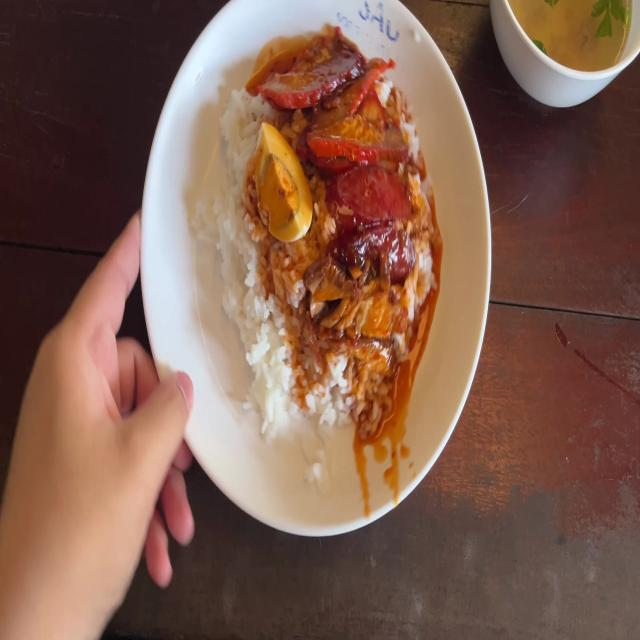01boiled_egg: (258, 127, 306, 234)
01chainese_sausage: (333, 175, 418, 272)
01crispy_pork: (311, 270, 408, 364)
01red_pork: (282, 50, 399, 156)
01red_pork_and_crispy_pork: (226, 53, 420, 416)
01rice: (237, 241, 305, 432), (205, 86, 260, 298)
